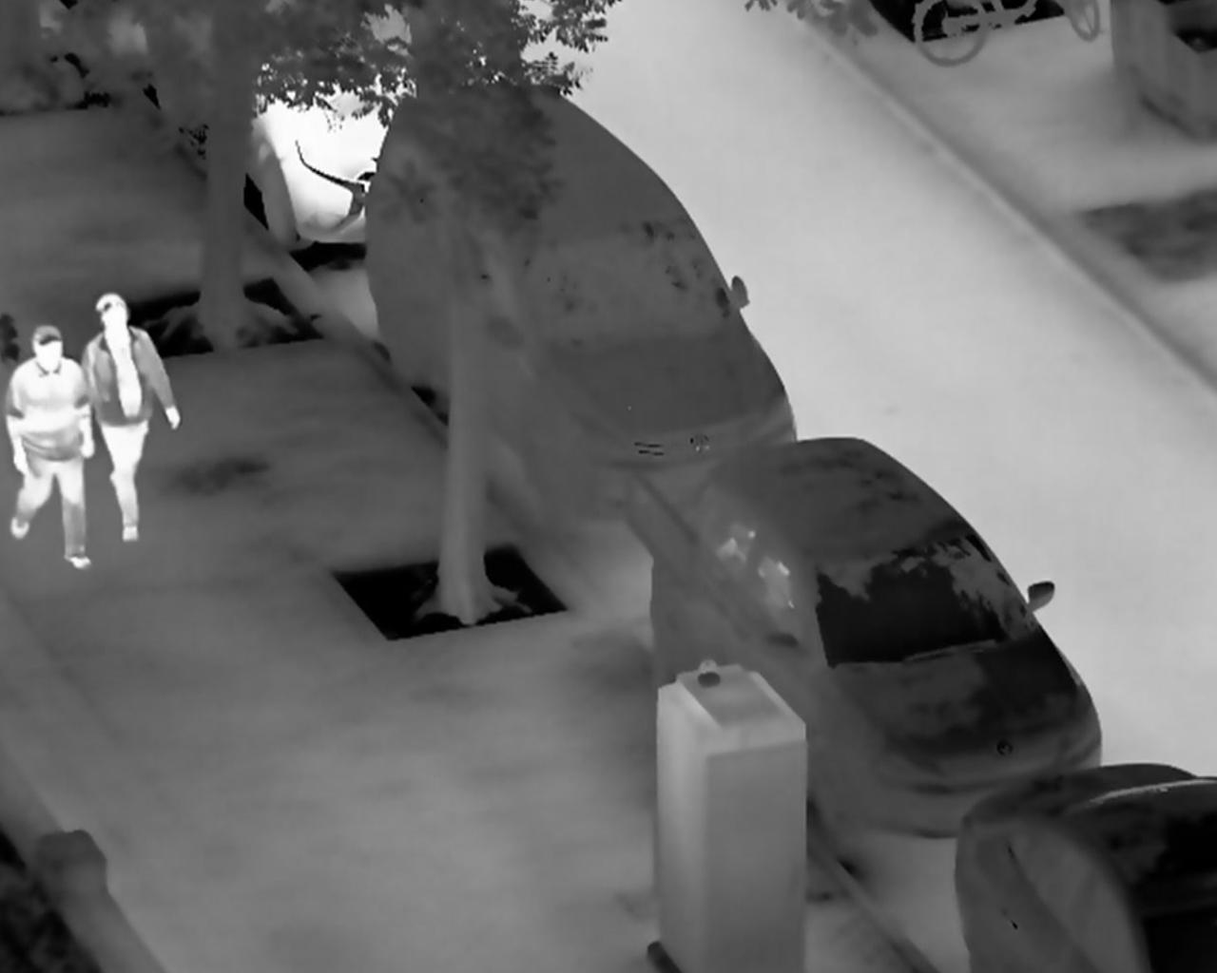person: (84, 292, 182, 545), (6, 324, 97, 569)
